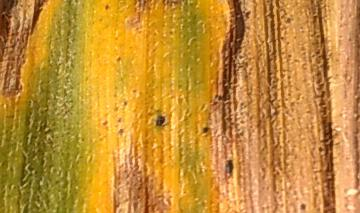tarspot: (223, 158, 236, 176), (154, 114, 166, 127), (202, 124, 210, 136), (104, 2, 111, 11), (300, 202, 307, 210), (101, 120, 109, 127), (317, 145, 324, 153), (246, 9, 251, 19), (118, 127, 124, 135), (116, 55, 122, 63), (285, 18, 292, 24), (123, 100, 128, 106), (114, 107, 119, 112), (118, 117, 122, 123)
